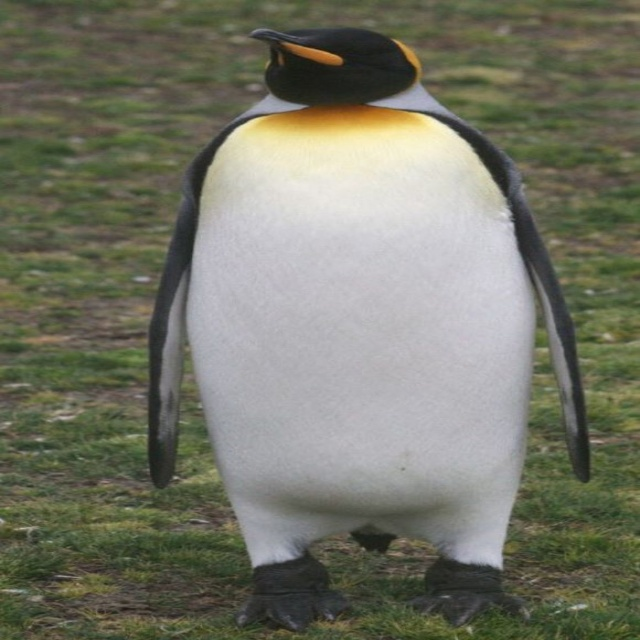Penguin: (143, 22, 600, 633)
